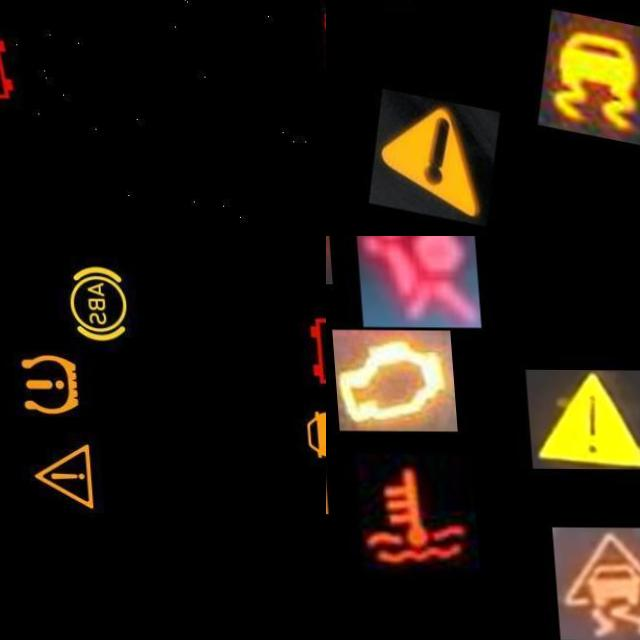Central Warning lamp: (355, 88, 501, 226), (519, 369, 640, 468)
Engine cooling system: (346, 454, 471, 572)
